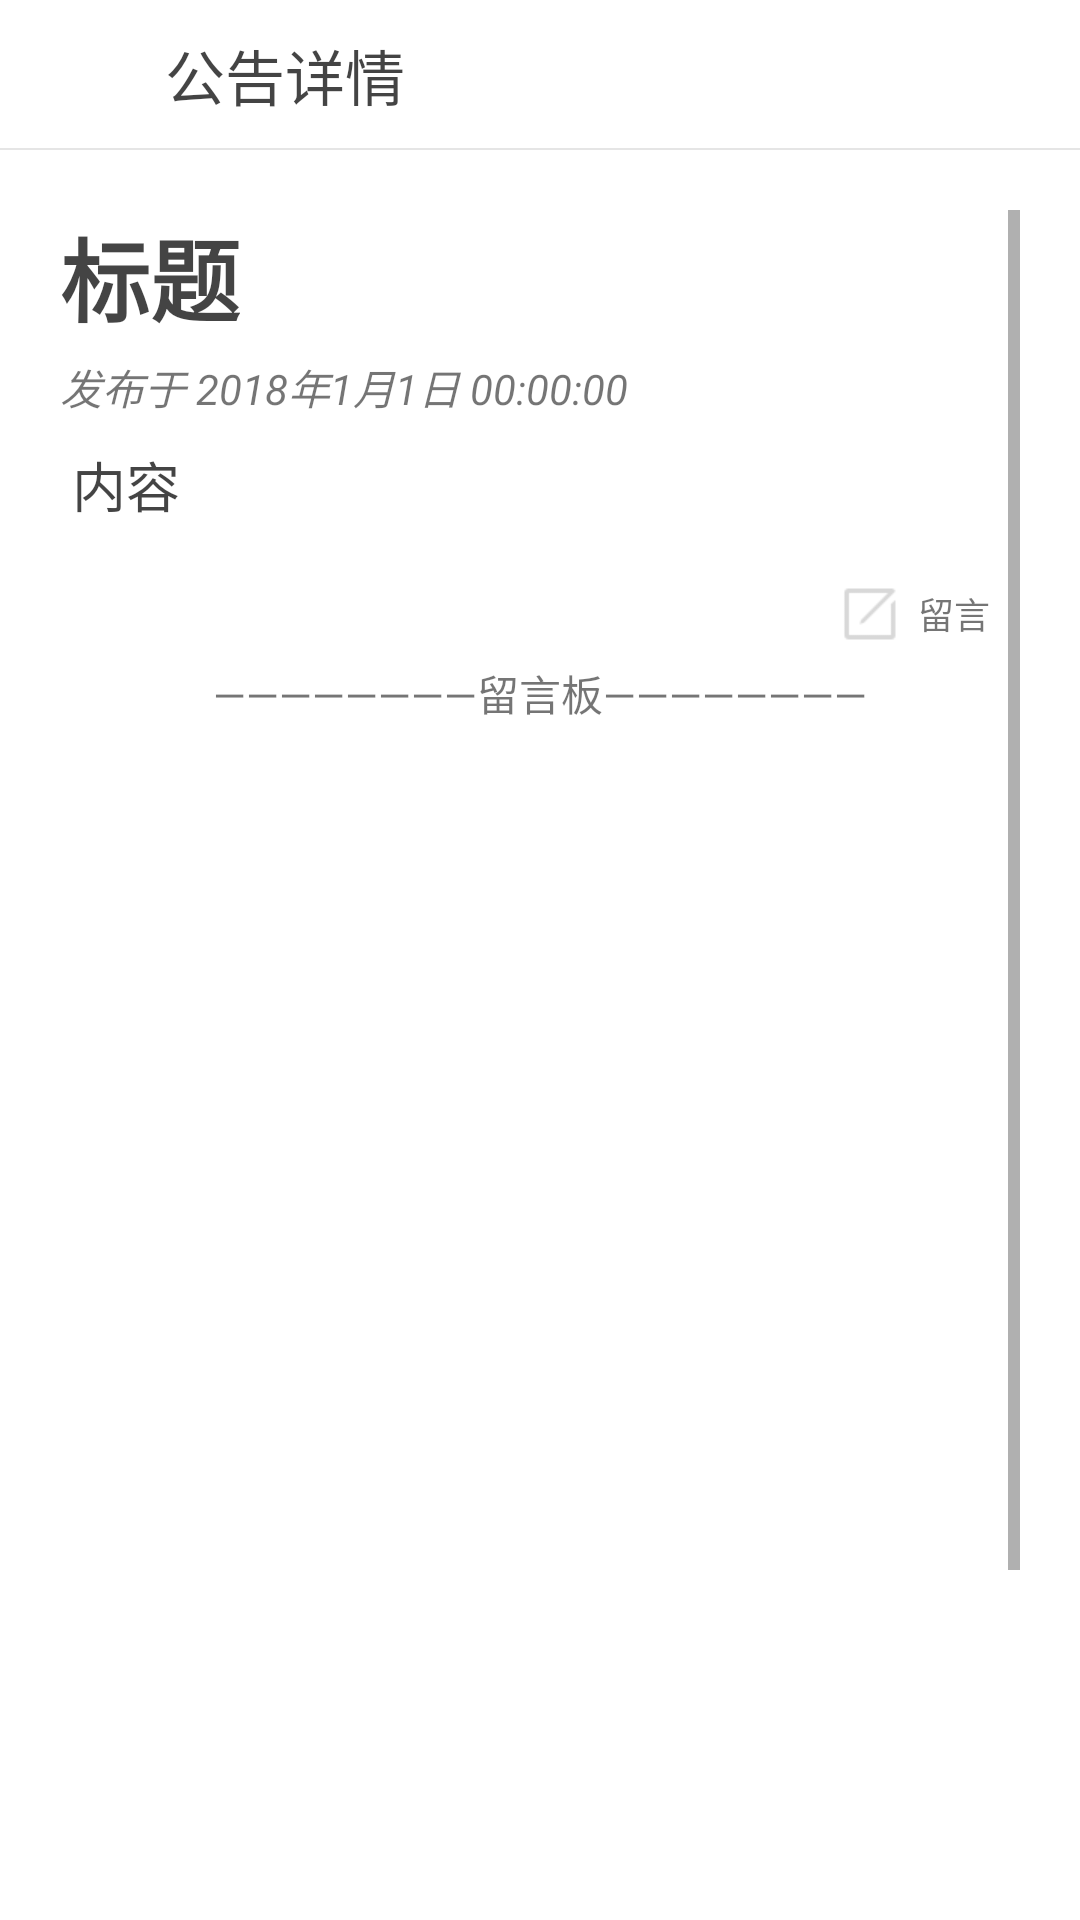

Screen size 1080x1920. Icon name, then its center in pixels as point (x, y):
edit: point (870, 614)
